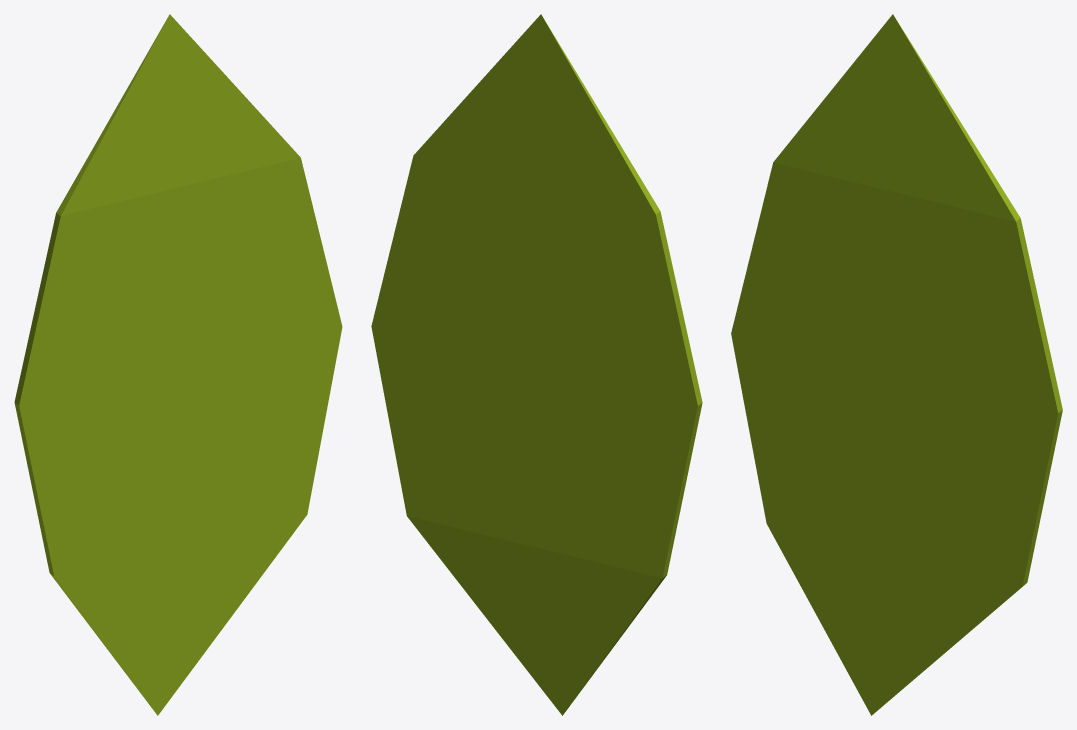
Rendered from Leave_a_03.fbx.
3 views of the same model, side by side, from view 1: azimuth 30°, elevation 25°; view 2: azimuth 150°, elevation 25°; view 3: azimuth 330°, elevation 25° (orthographic).
Parts seen in each view (by area): view 1: Leave_a_03_LOD0; view 2: Leave_a_03_LOD0; view 3: Leave_a_03_LOD0.
Part boxes in pixels (left/top/right/bottom): Leave_a_03_LOD0: left=14, top=14, right=342, bottom=715; Leave_a_03_LOD0: left=371, top=14, right=702, bottom=715; Leave_a_03_LOD0: left=731, top=14, right=1062, bottom=715.
Size of what is drawn, in the model's own units: 1.86 by 3.83 by 0.0463.
